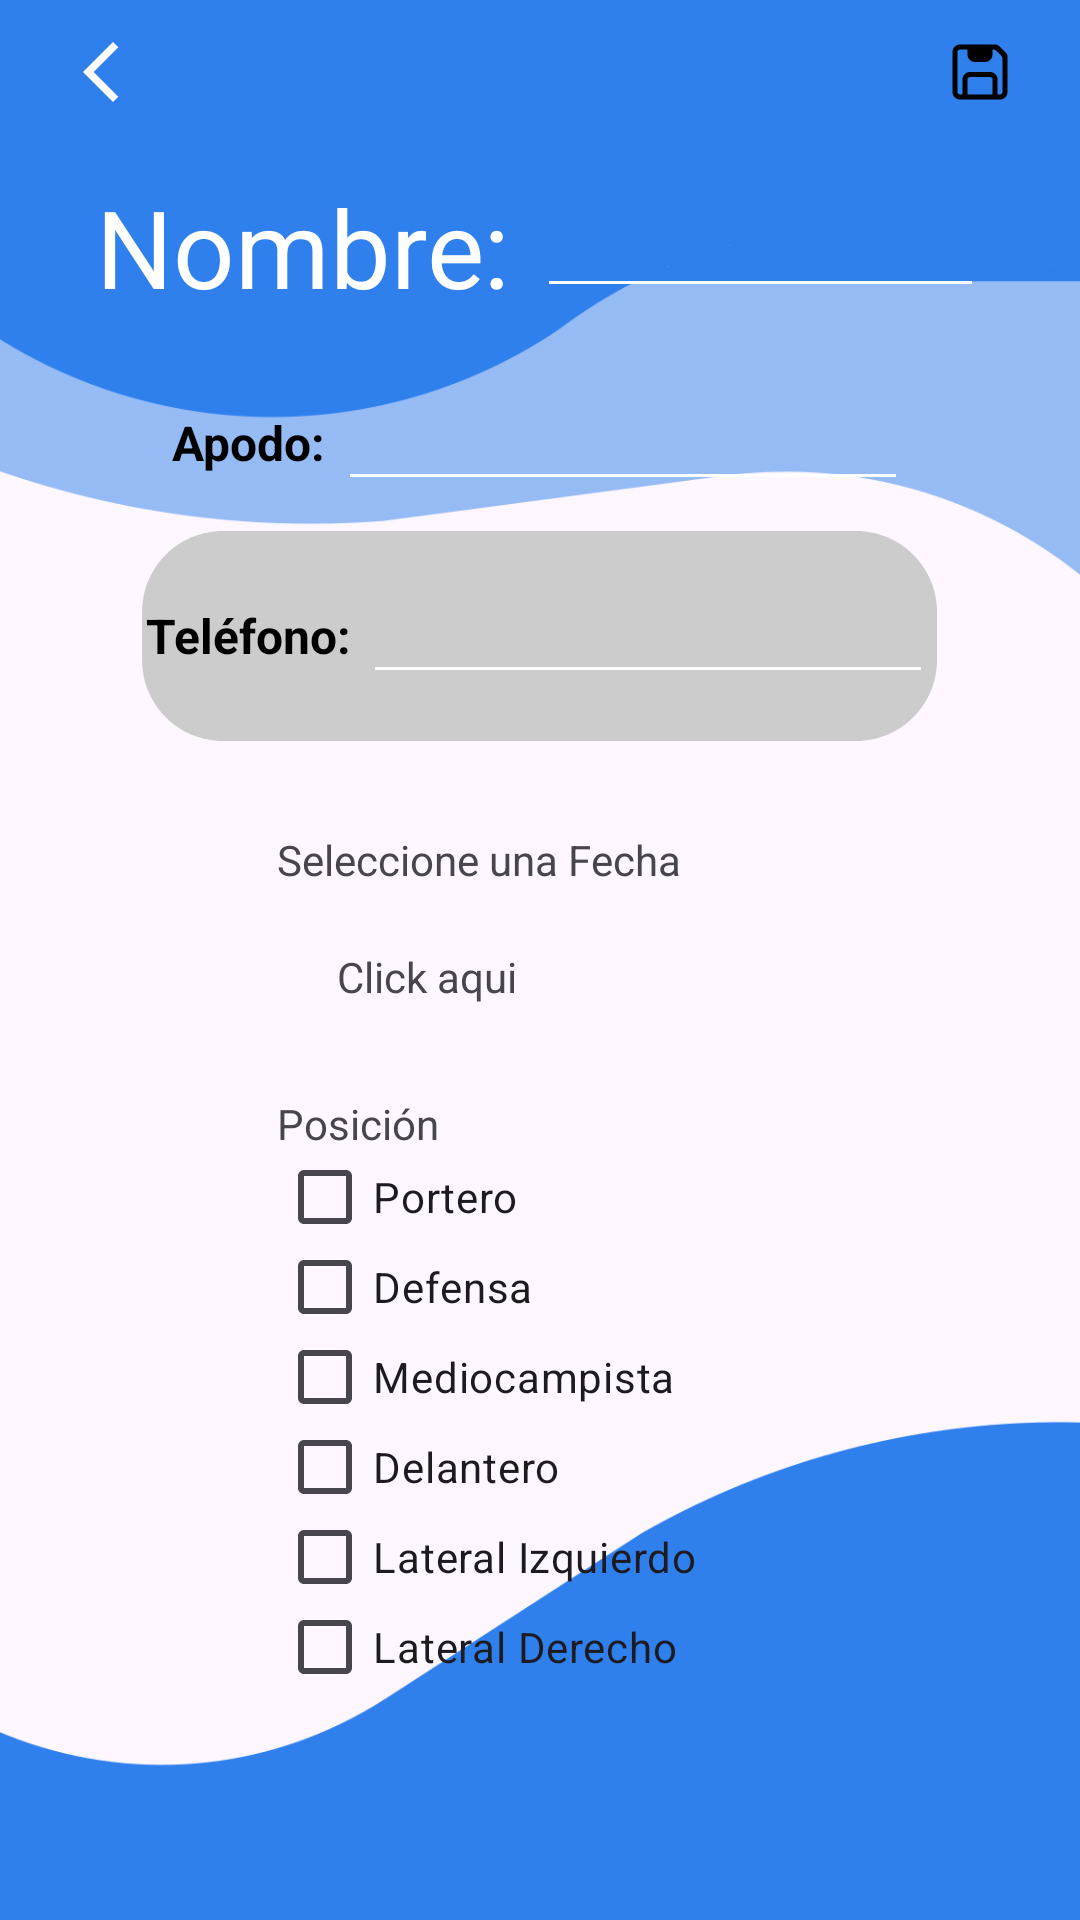

Named icons in this screenshot (1080px×1920px) and their centers, [x,y]:
Go back: [100,72]
